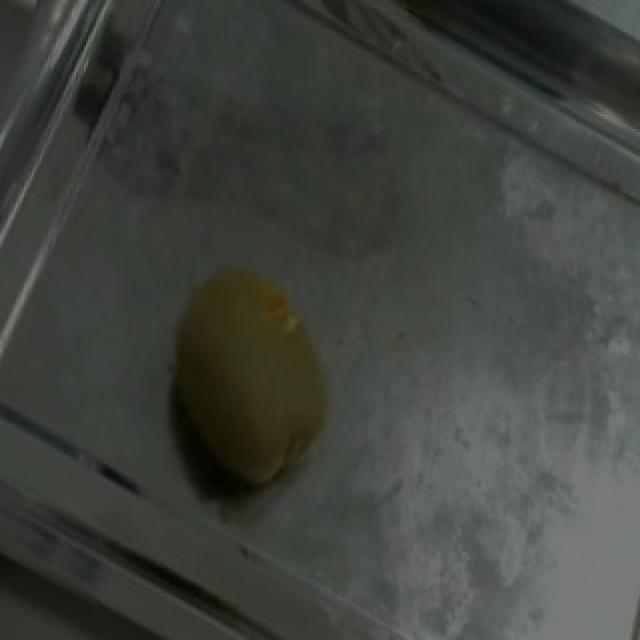Fruit: (120, 231, 376, 533)
